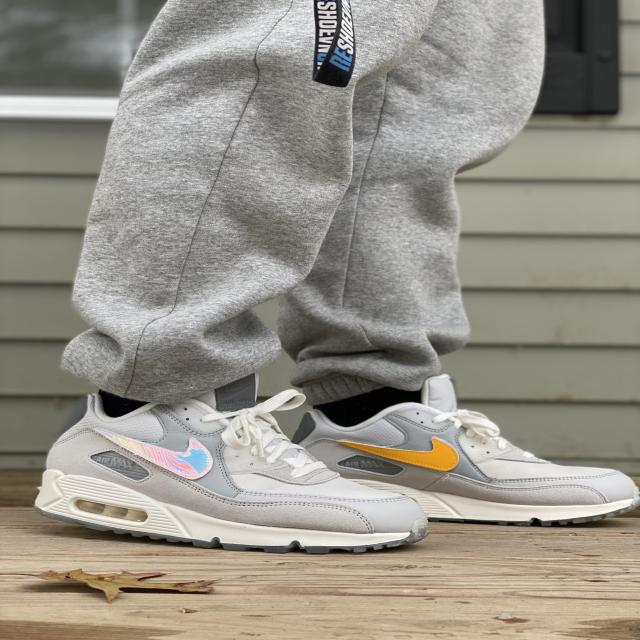shoe: (35, 395, 432, 552), (302, 376, 640, 524)
